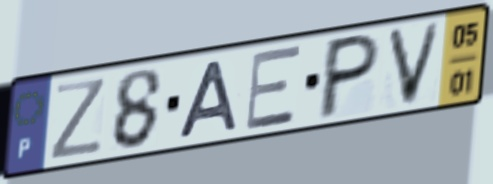8: (111, 67, 165, 152)
A: (174, 57, 240, 142)
E: (243, 42, 303, 134)
P: (313, 29, 384, 124)
V: (384, 18, 446, 110)
Z: (47, 74, 109, 163)
